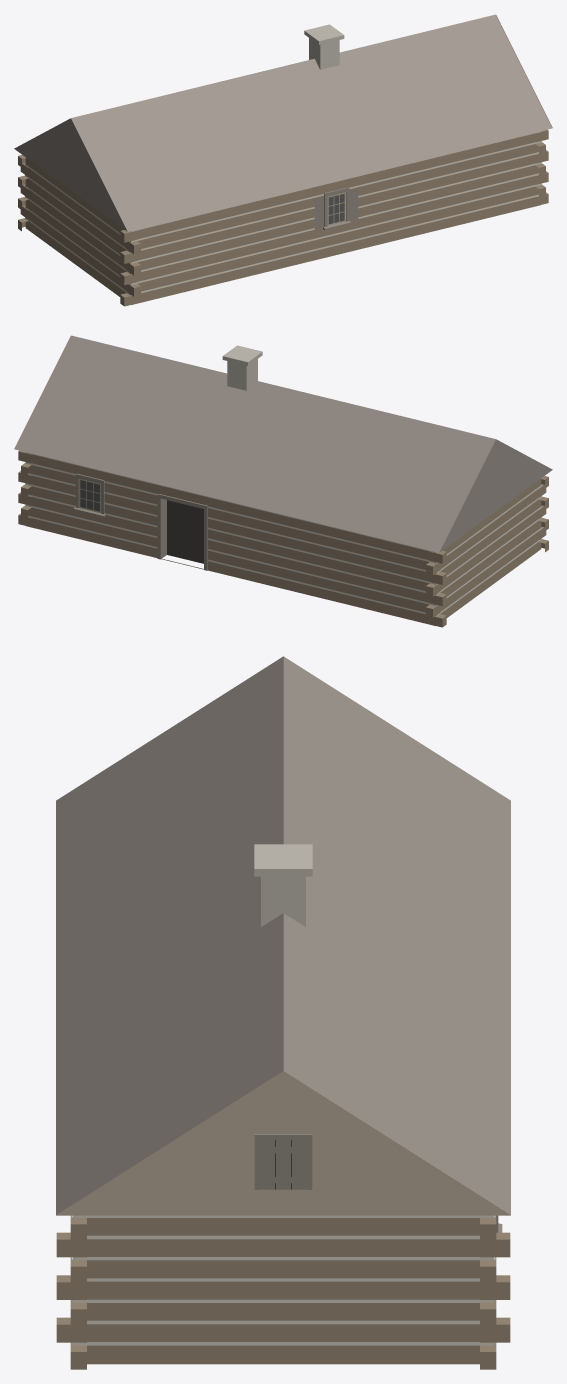
The model's file is hogan_store__log_1831.glb.
3 renders of one model, top to bottom at view 1: azimuth 30°, elevation 25°; view 2: azimuth 150°, elevation 25°; view 3: azimuth 270°, elevation 25°, orthographic. The views are drawn at different scales.
Parts seen in each view (by area): view 1: hogan_store__log_1831; view 2: hogan_store__log_1831; view 3: hogan_store__log_1831.
Part boxes in pixels (<box>): hogan_store__log_1831: <box>14,14,552,306</box>; hogan_store__log_1831: <box>14,335,552,627</box>; hogan_store__log_1831: <box>56,656,510,1369</box>.
Bounding box in the file's own units: 14.31 × 5.56 × 6.6.
